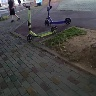beam: (43, 1, 72, 27)
gcooter: (21, 5, 59, 43)
